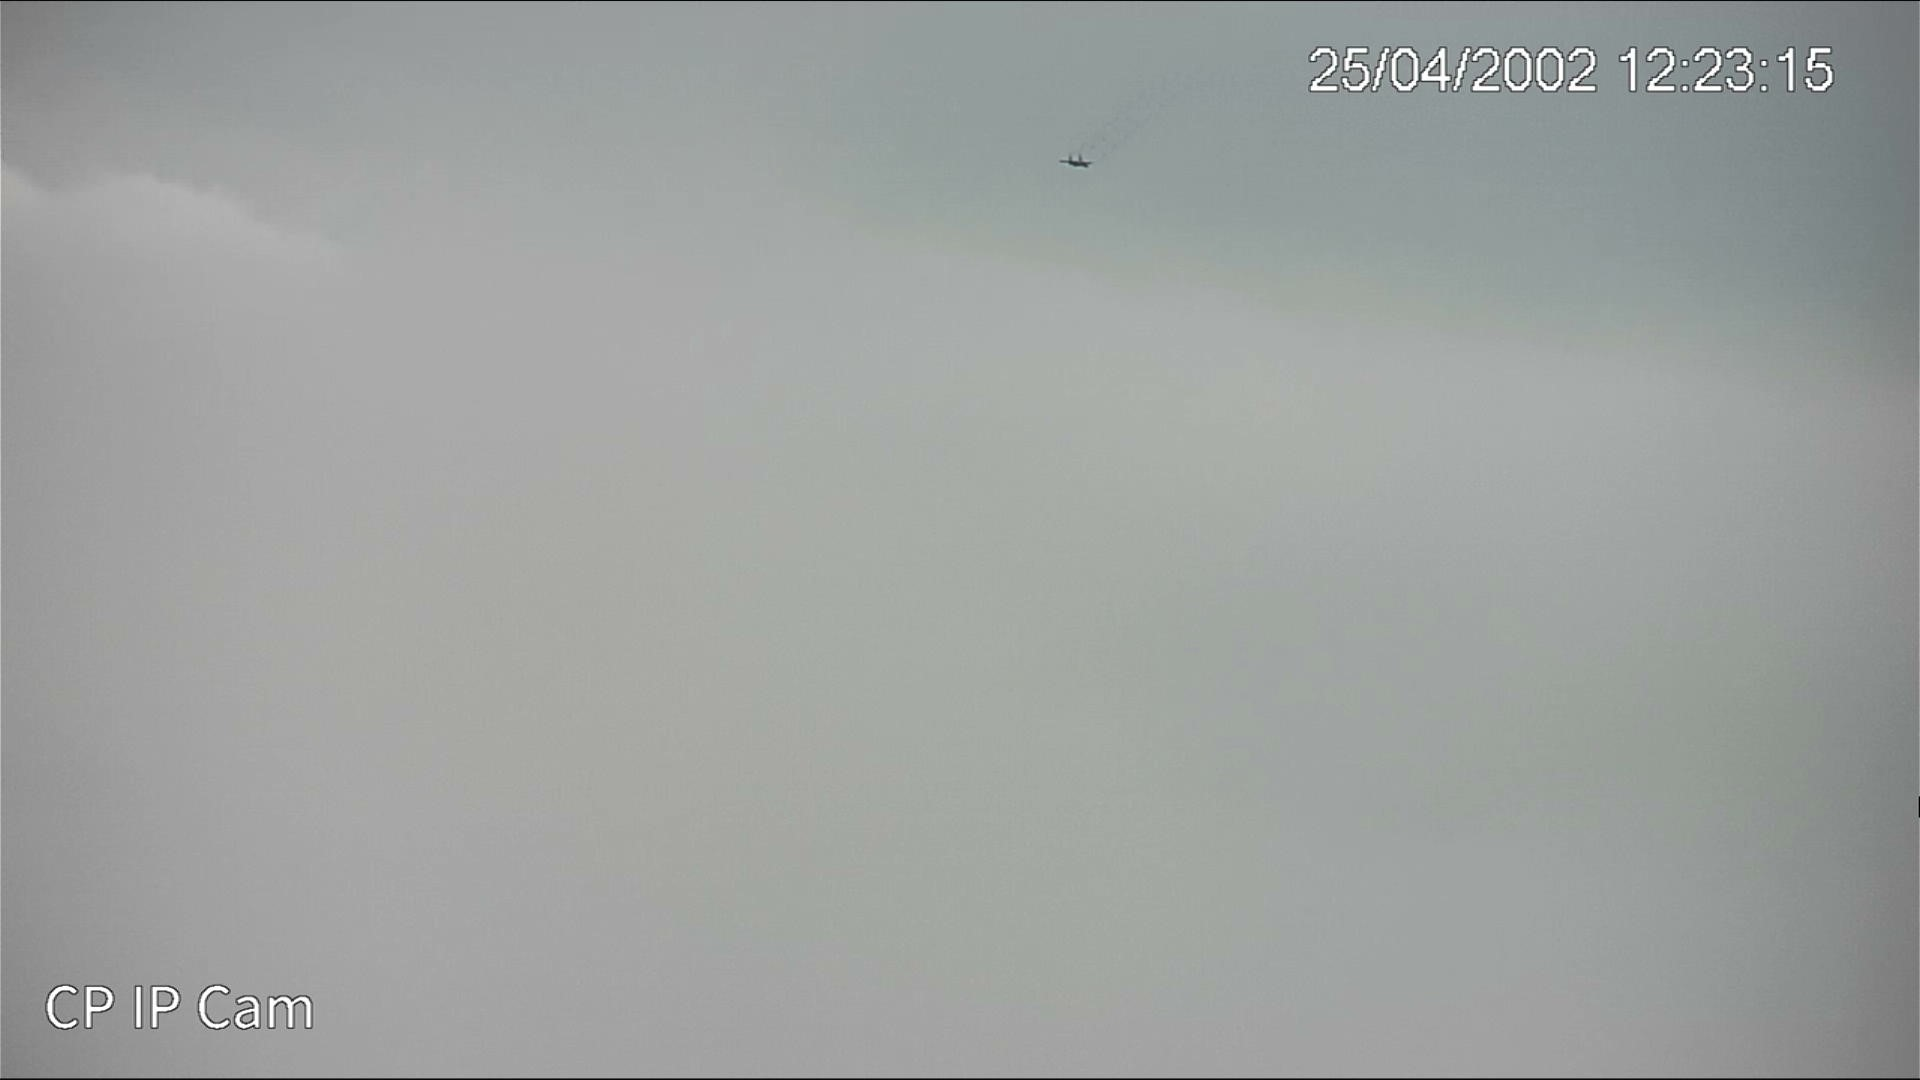SU_30: (1060, 154, 1091, 167)
